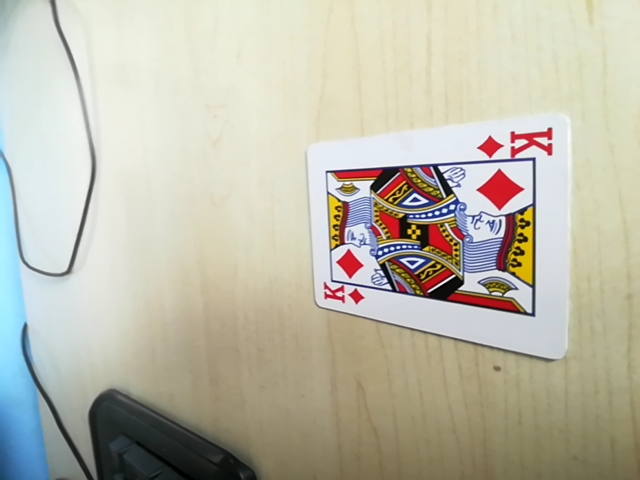fk k: (477, 124, 557, 164), (314, 282, 366, 311)
